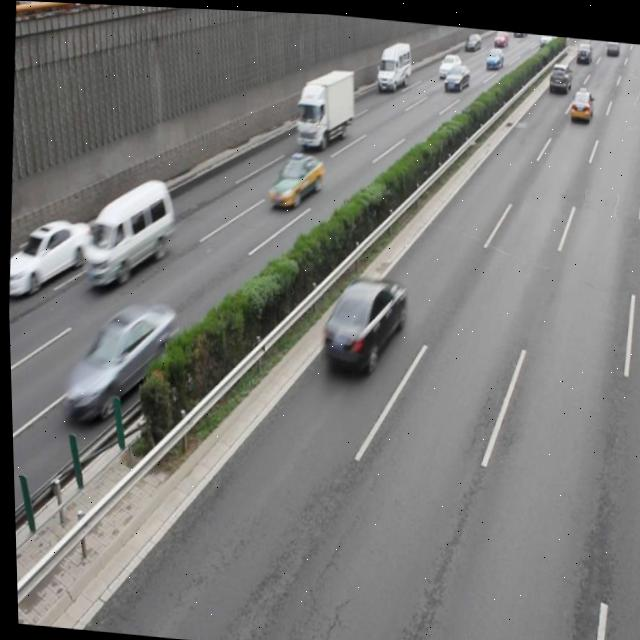bus: (293, 62, 355, 148)
car: (57, 295, 178, 430), (315, 266, 405, 377), (6, 213, 92, 303), (265, 147, 324, 209)
truck: (76, 171, 178, 293)
